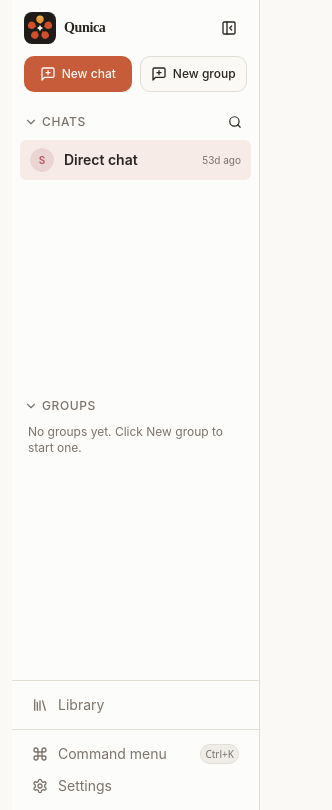
Test: AppSidebar terminal cleanup › opens the library straight into the panel, over the current chat
The width and height of the screenshot is (332, 810).
Click the button "Library".
click(136, 705)  # box [20,689,251,721]
(page scrolled)
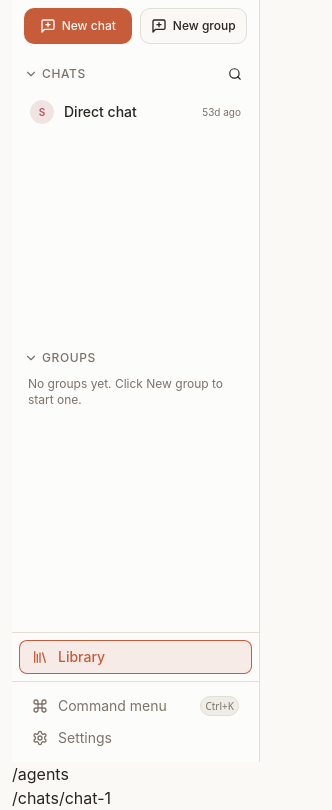
Expected: the text with test id "background-location" reads "/chats/chat-1", [12,788,111,808]
Expected: the text with test id "location" reads "/agents", [12,764,69,784]
